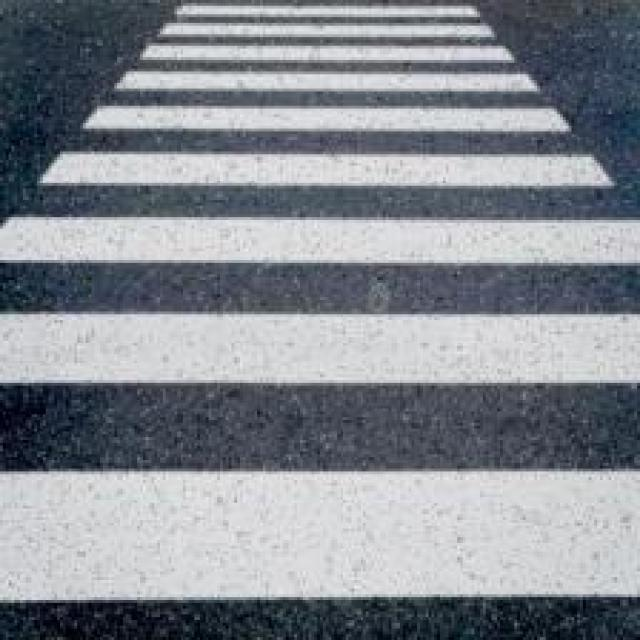crosswalk: (0, 1, 640, 606)
